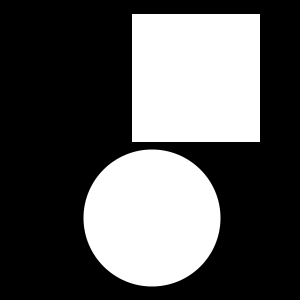circle: (132, 14, 260, 142)
rectangle: (84, 150, 221, 286)
